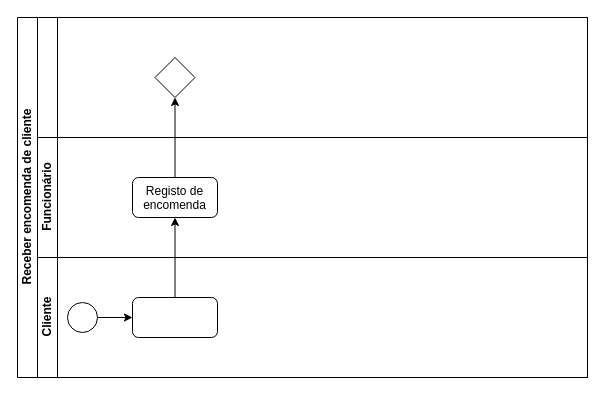
This 605x395 diagram has some shape labels left out. Each missing label, with the box of its shape:
Realiza encomenda: (132, 296, 218, 338)
Sistema: (36, 16, 588, 138)
